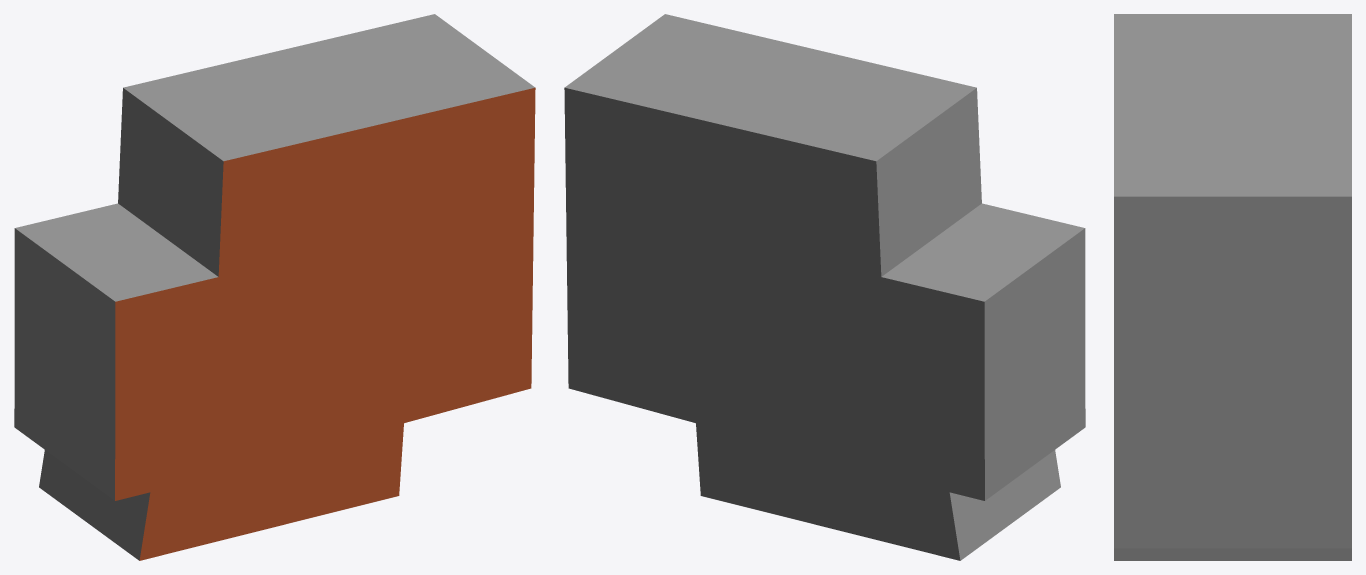
File: construction_3329_assumed_A_Casa_h6m.obj
The picture shows the model from 3 angles, left to right: view 1: azimuth 30°, elevation 25°; view 2: azimuth 150°, elevation 25°; view 3: azimuth 270°, elevation 25°; orthographic projection. The views are drawn at different scales.
Visible parts, largest first — view 1: construction_3329_assumed_A_Casa; view 2: construction_3329_assumed_A_Casa; view 3: construction_3329_assumed_A_Casa.
Part boxes in pixels (x1,y1,x2,y2): construction_3329_assumed_A_Casa: (14, 14, 535, 560); construction_3329_assumed_A_Casa: (564, 14, 1085, 560); construction_3329_assumed_A_Casa: (1114, 14, 1351, 560).
Size of the model in its own units: 14.47 by 12.47 by 6.
